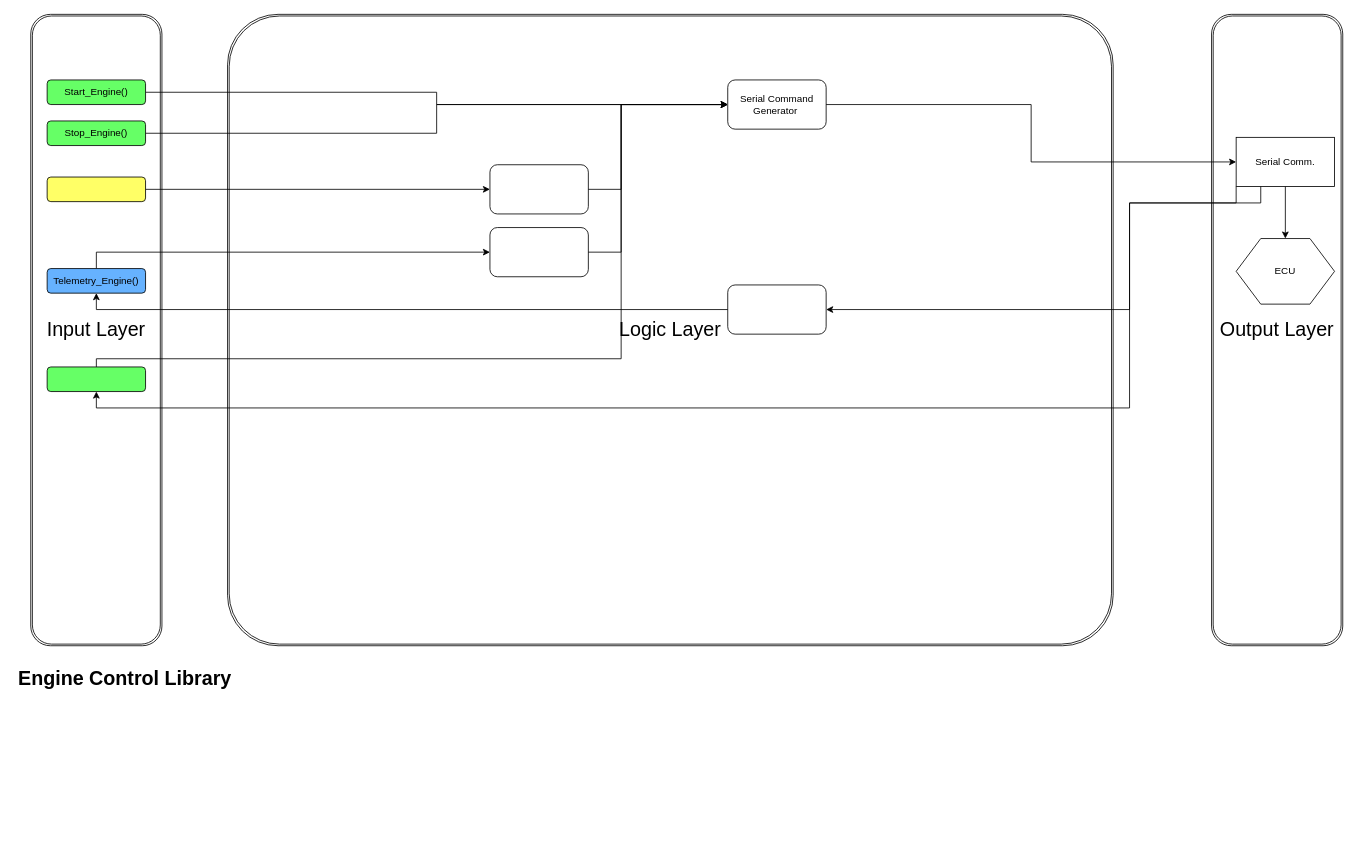
Image size: 1357x857. Some labels were removed from this diagram. The centre of each missing label's shape, as x and y in pixels:
"Check_Engine()" belongs at (96,379).
"Configuration Generator" belongs at (538,189).
"Configure_Engine()" belongs at (96,189).
"Request For telemetry" belongs at (538,252).
"Response Telemetry" belongs at (776,309).
